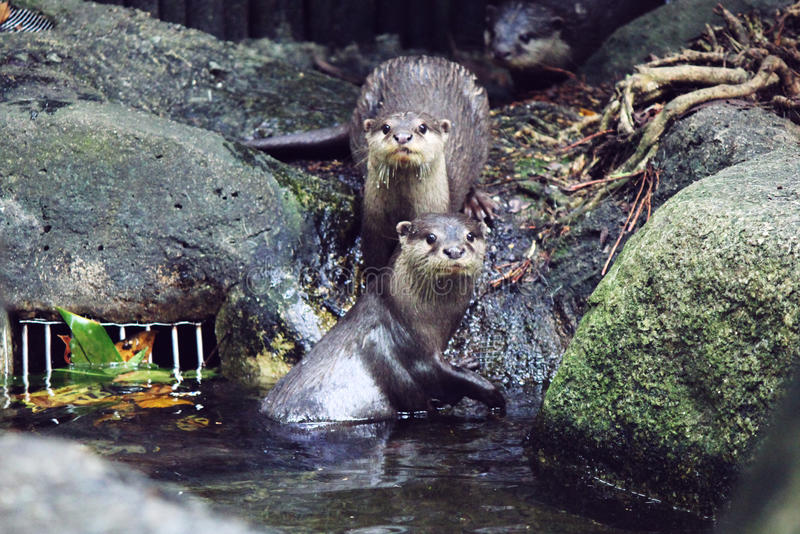otter: (263, 209, 507, 431), (340, 47, 494, 223)
